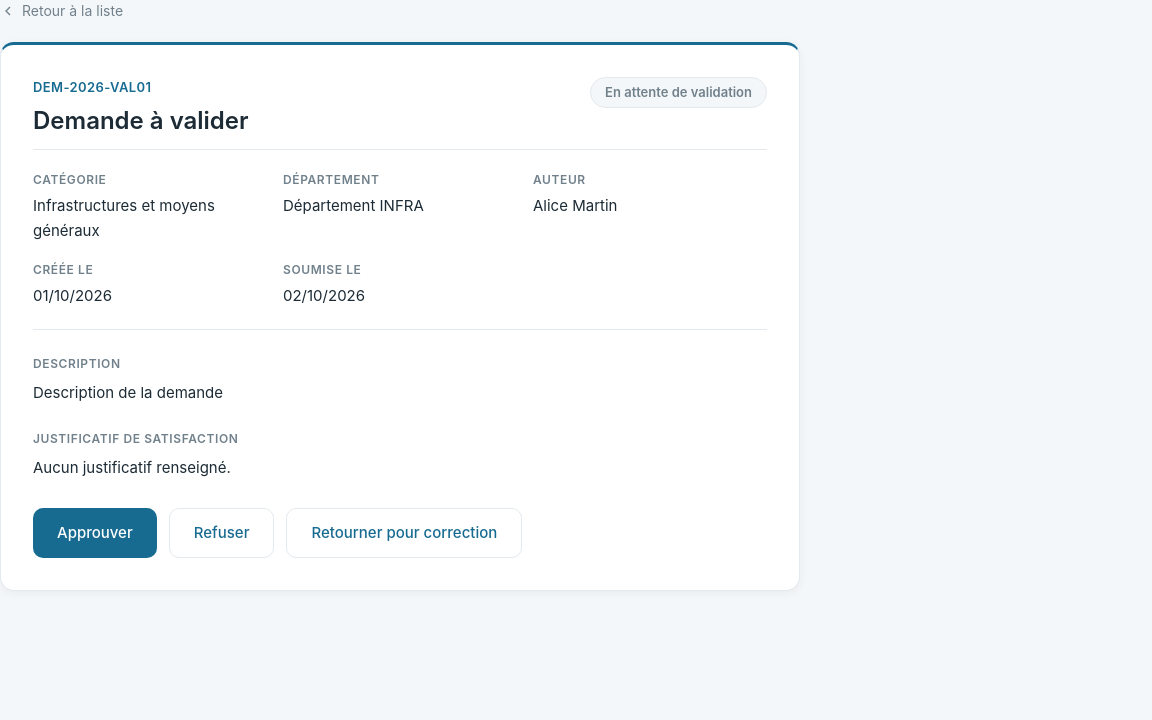
Scenario: validation UI : le refus est annulé et le dialogue se ferme
This screenshot has width=1152, height=720.
Step 1. Click the button "Refuser" → (222,533), box [169,508,274,558]
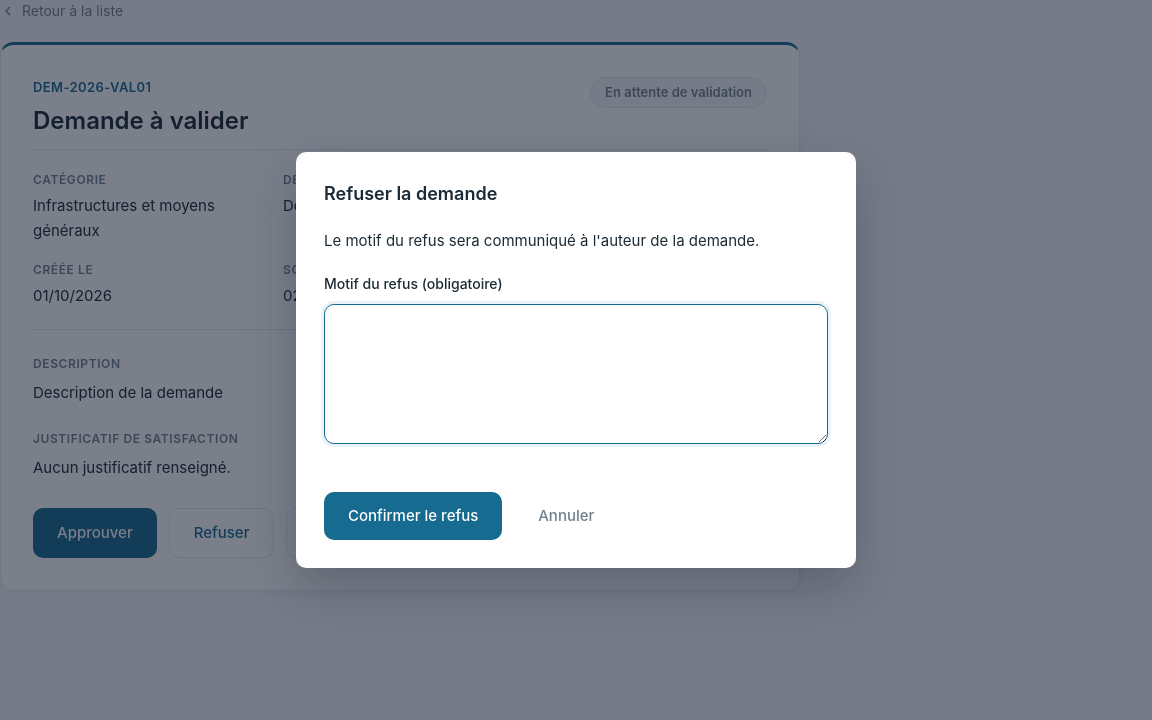
expect the dialog is shown: met, box [296,152,856,568]
Step 2. Click the button "Annuler" → (566,516), box [514,492,618,540]
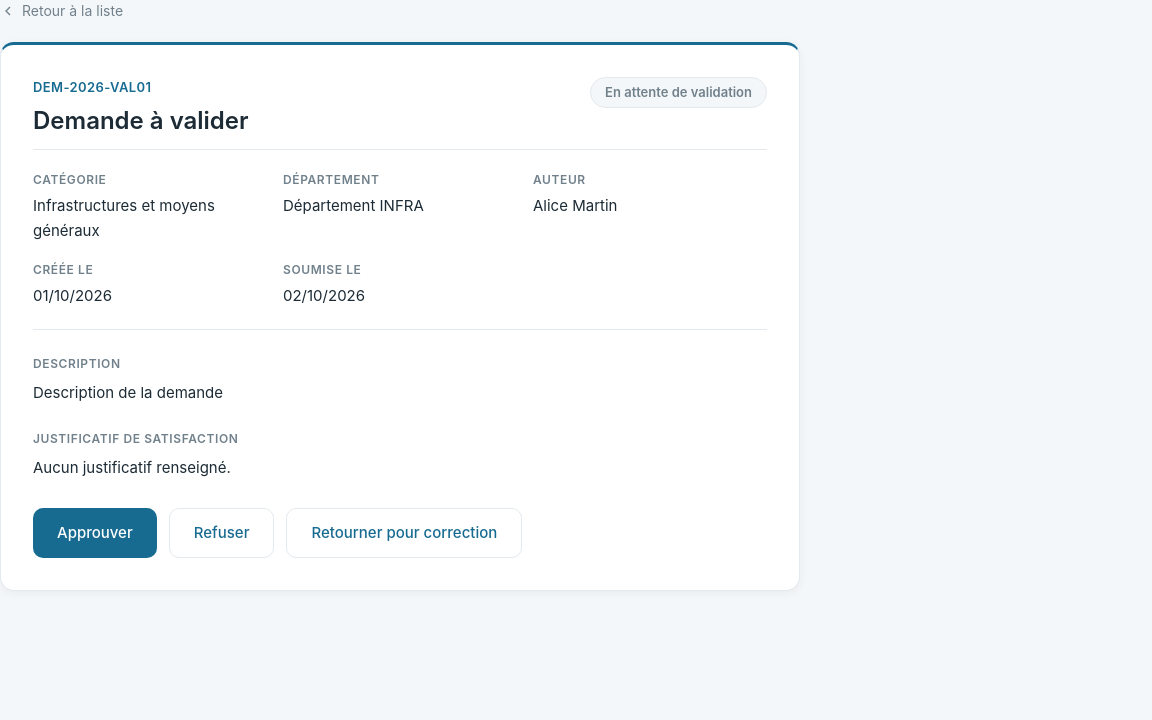
expect the dialog is gone: met
